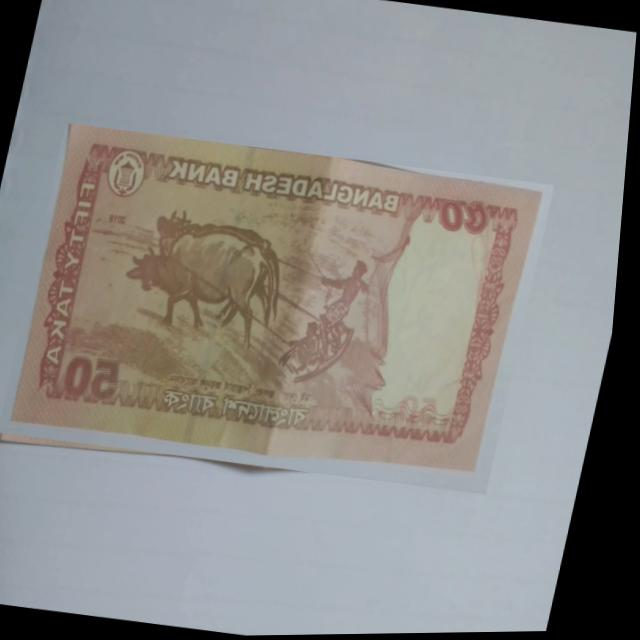Taka: (0, 118, 562, 502)
